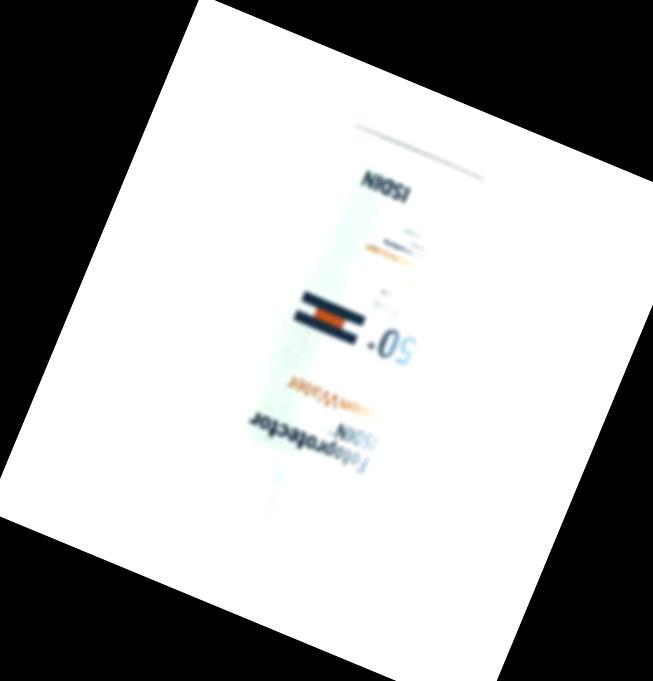cosmetic: (163, 113, 502, 596)
